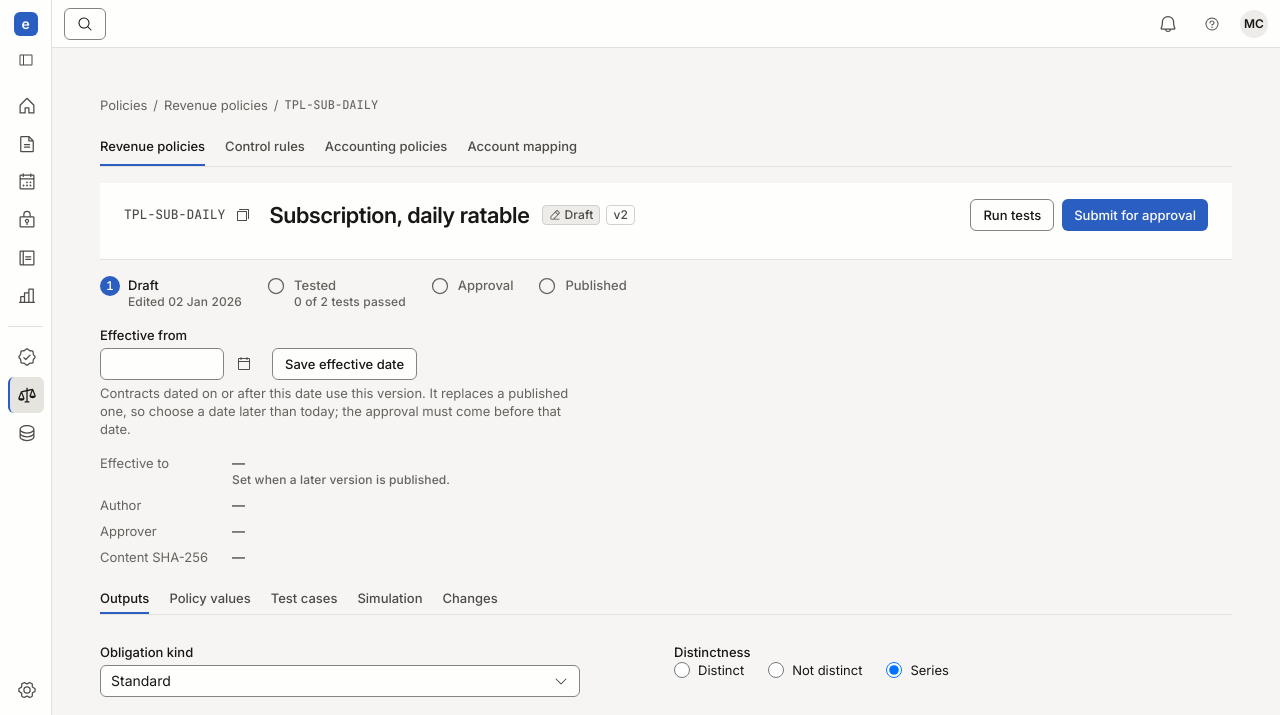
SF-13:template-version Meta and refused commands (SCREENS rev 1.31; PRD ERR-75) › Save effective date without a date on a draft that replaces the published version says Enter the effective date. and sends nothing
The image size is (1280, 715).
Step 1. Click the button "Save effective date" → coordinates (345, 364), box [272,348,417,380]
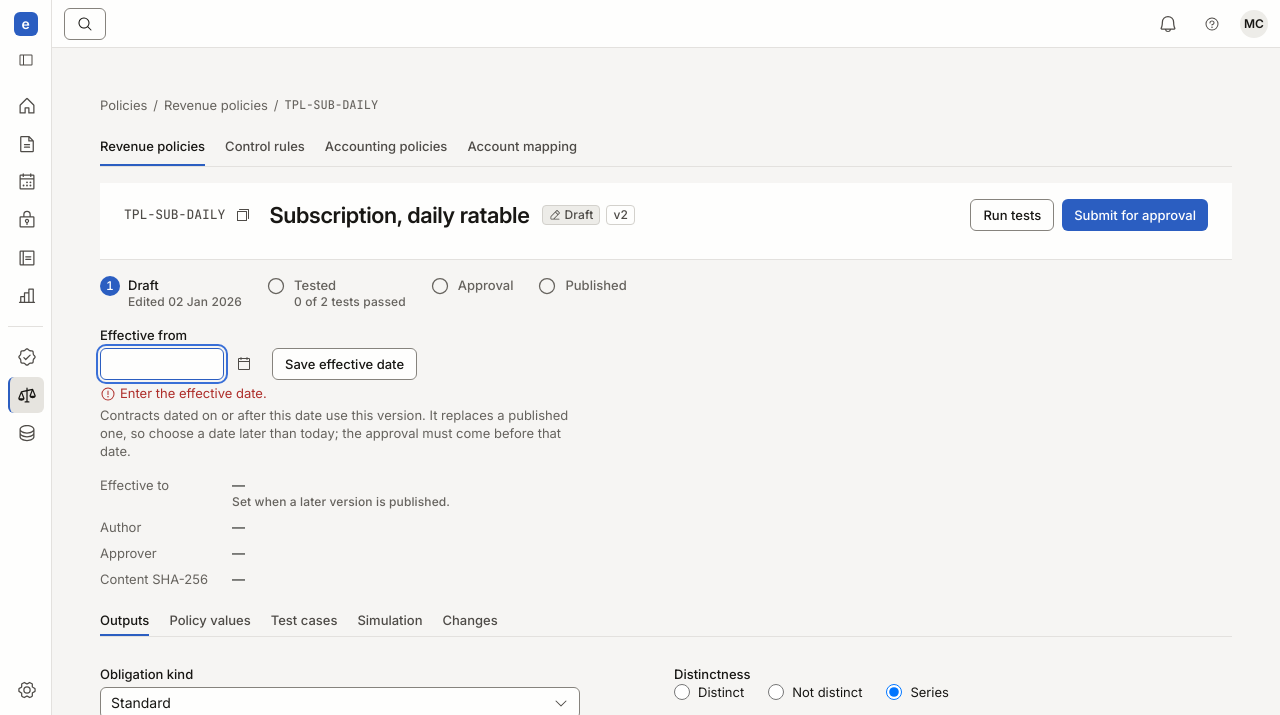
Expected: the text "Enter the effective date." is shown, [100,385,267,402]
The message is about the empty field: it leaves when a date is typed.
Step 2. Type "2026-11-01" into the field labelled "Effective from" → coordinates (162, 364), box [100,348,224,380]
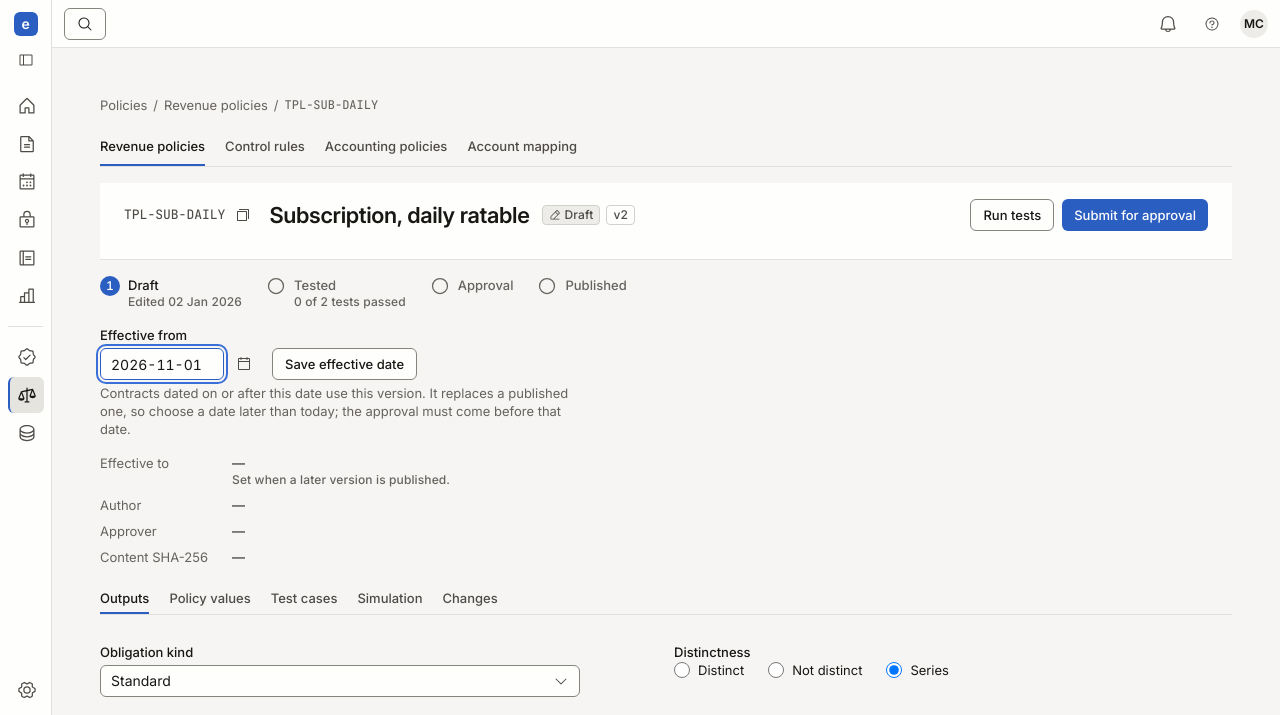
Expected: the text "Enter the effective date." is gone
